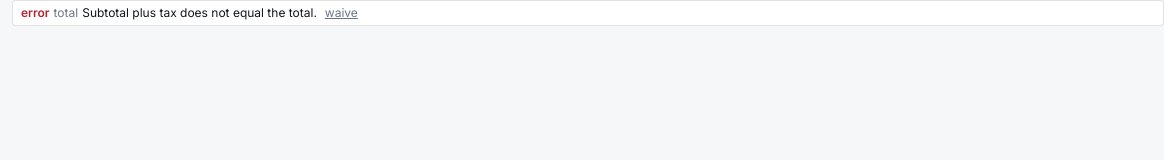
FindingList › sends nothing when the reason is shorter than the server will accept
The image size is (1164, 160).
Click the button "waive". click: coordinates (341, 13)
box: 325,5 -> 358,21
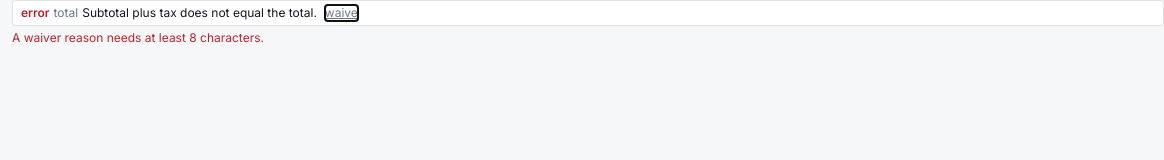
Now the list item "A waiver reason needs at least 8 characters." is shown, box 12,30 -> 264,45
